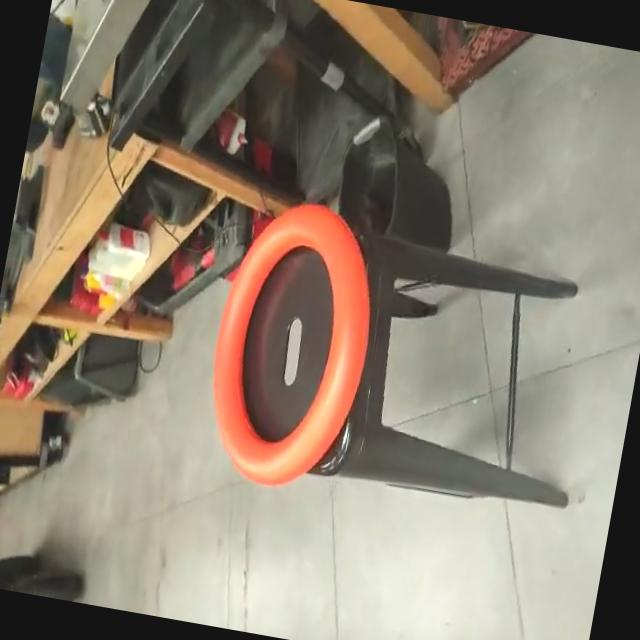note: (188, 187, 393, 506)
